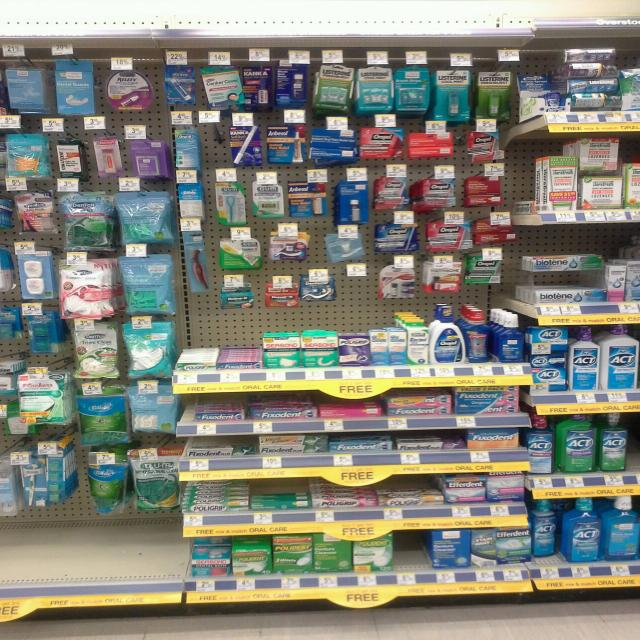empty: (392, 533, 427, 568)
